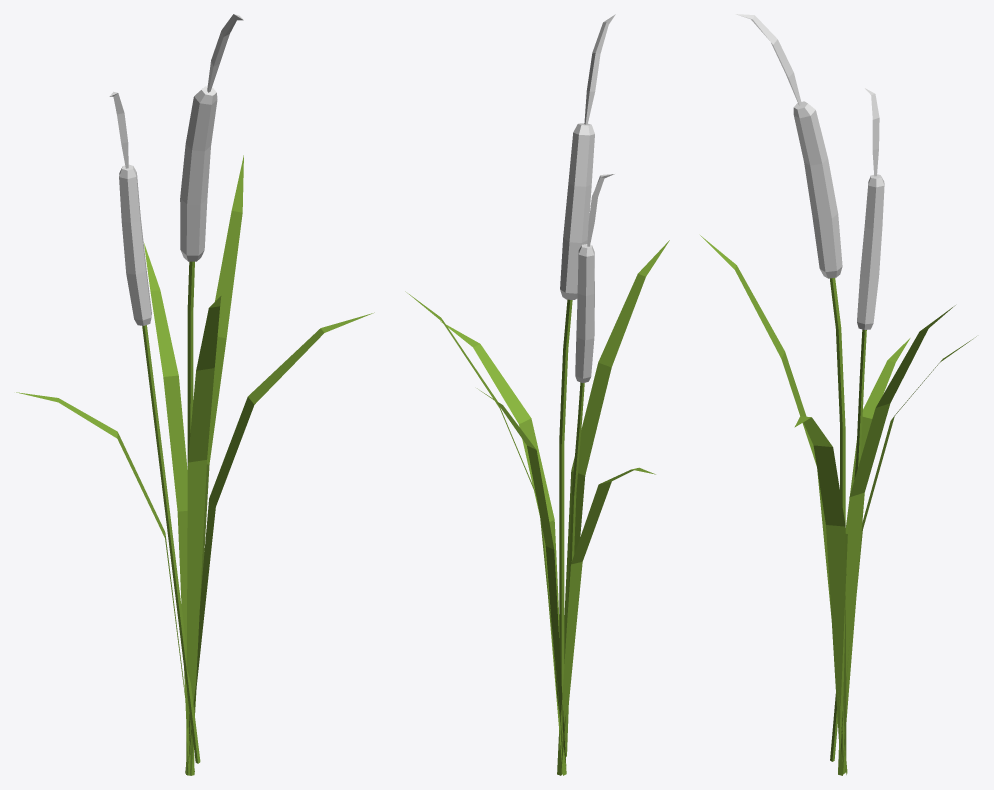
File: SM_Cattail_Single_Mature_B.fbx
3 views of the same model, side by side, from view 1: azimuth 30°, elevation 25°; view 2: azimuth 150°, elevation 25°; view 3: azimuth 270°, elevation 25° (orthographic). The views are drawn at different scales.
Visible parts, largest first — view 1: cattail-single-mature-b; view 2: cattail-single-mature-b; view 3: cattail-single-mature-b.
Boxes of the visible parts, x1=… form: cattail-single-mature-b: x1=16, y1=14, x2=374, y2=775; cattail-single-mature-b: x1=405, y1=14, x2=669, y2=775; cattail-single-mature-b: x1=700, y1=14, x2=976, y2=775.
Size of the model in its own units: 0.7608 by 1.93 by 0.6461.
